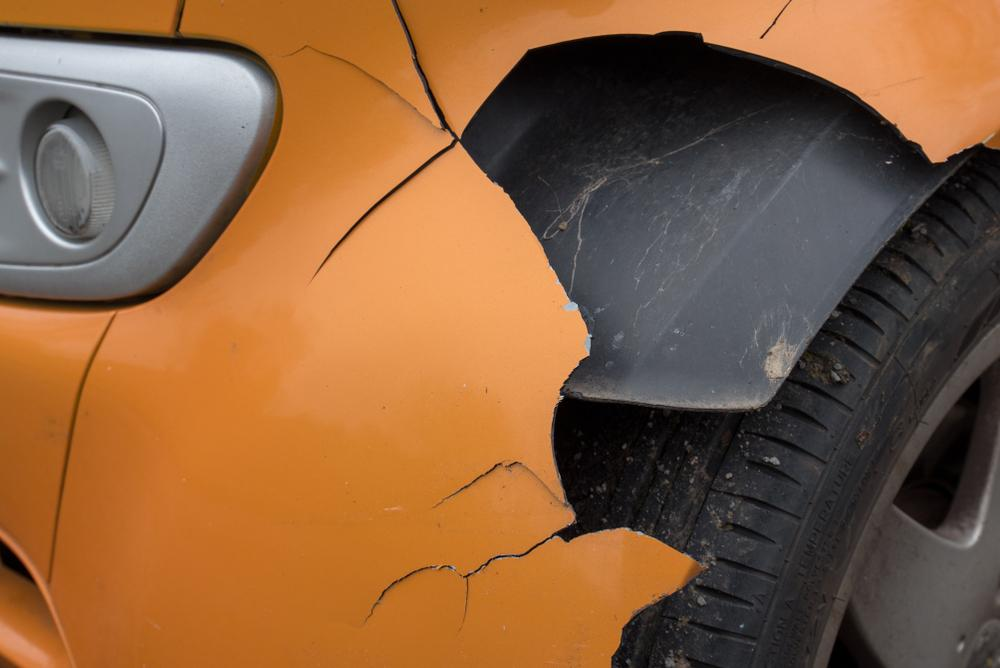crack: (265, 0, 460, 285), (360, 519, 610, 632), (426, 460, 567, 512), (757, 0, 794, 41)
